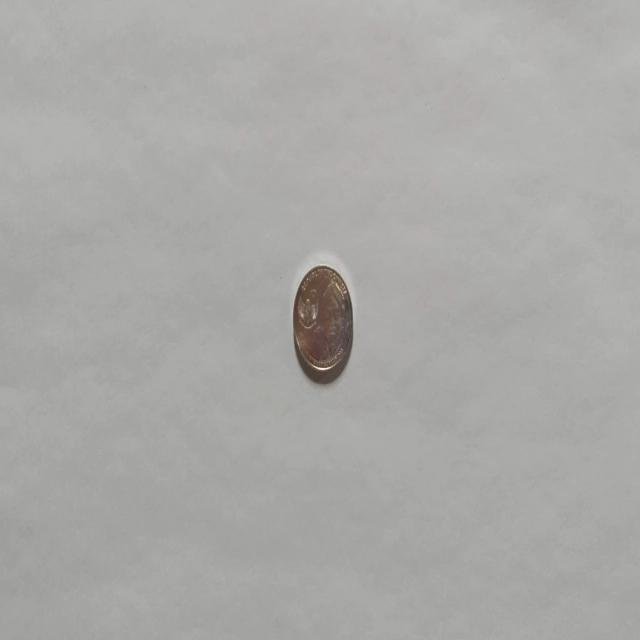dua ratus rupiah: (291, 263, 353, 382)
